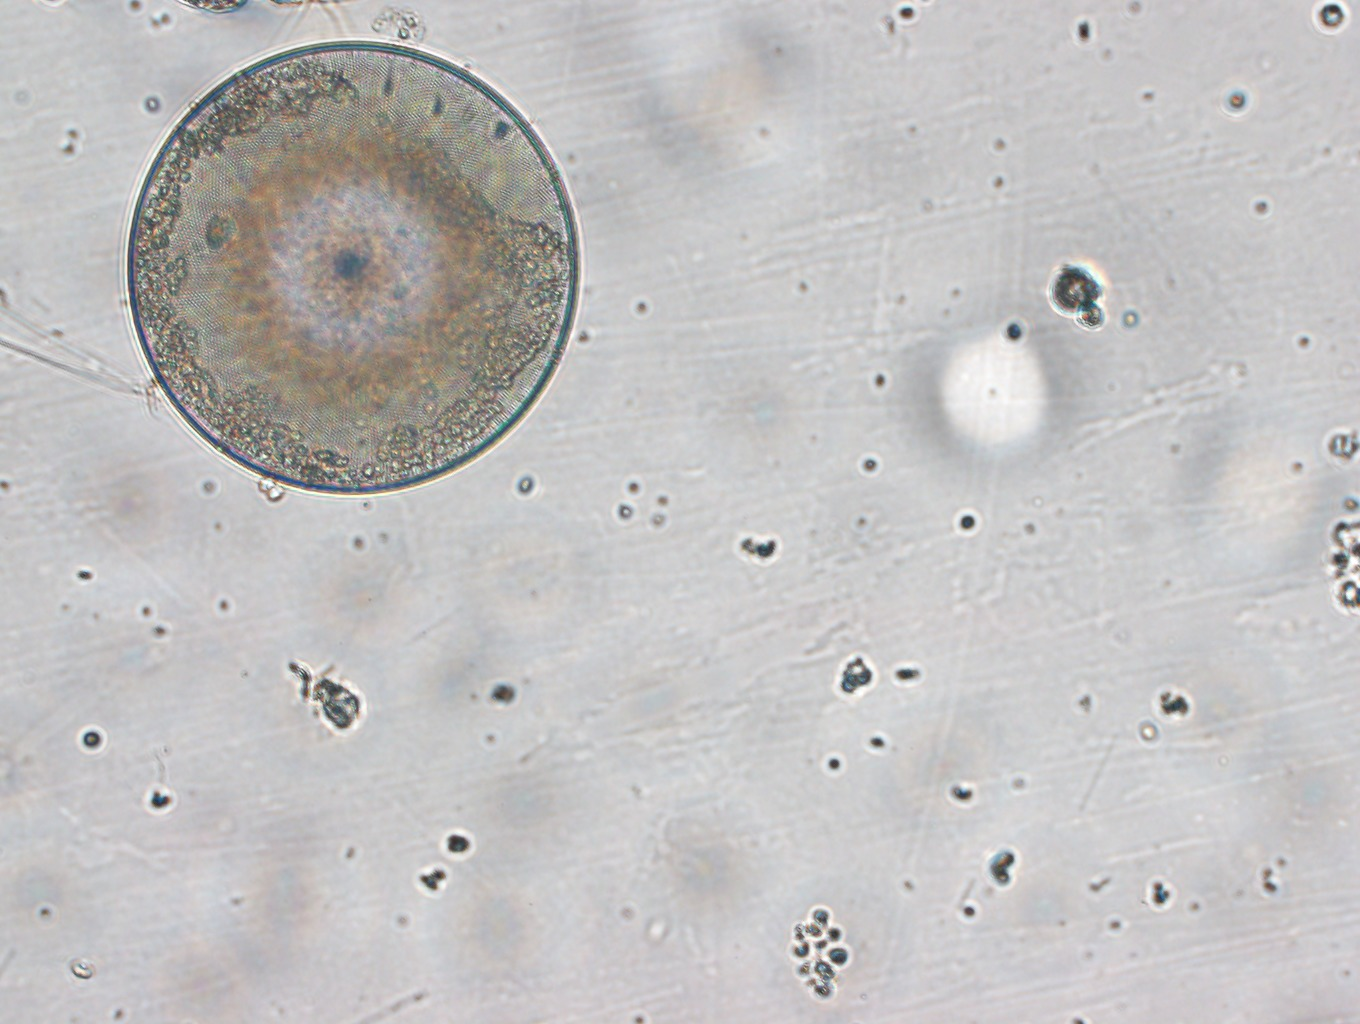coscinodiscus: (121, 33, 587, 503)
